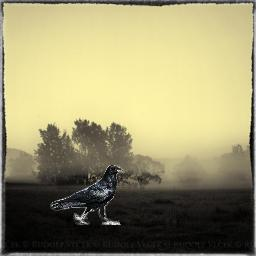Crow: (50, 165, 125, 225)
